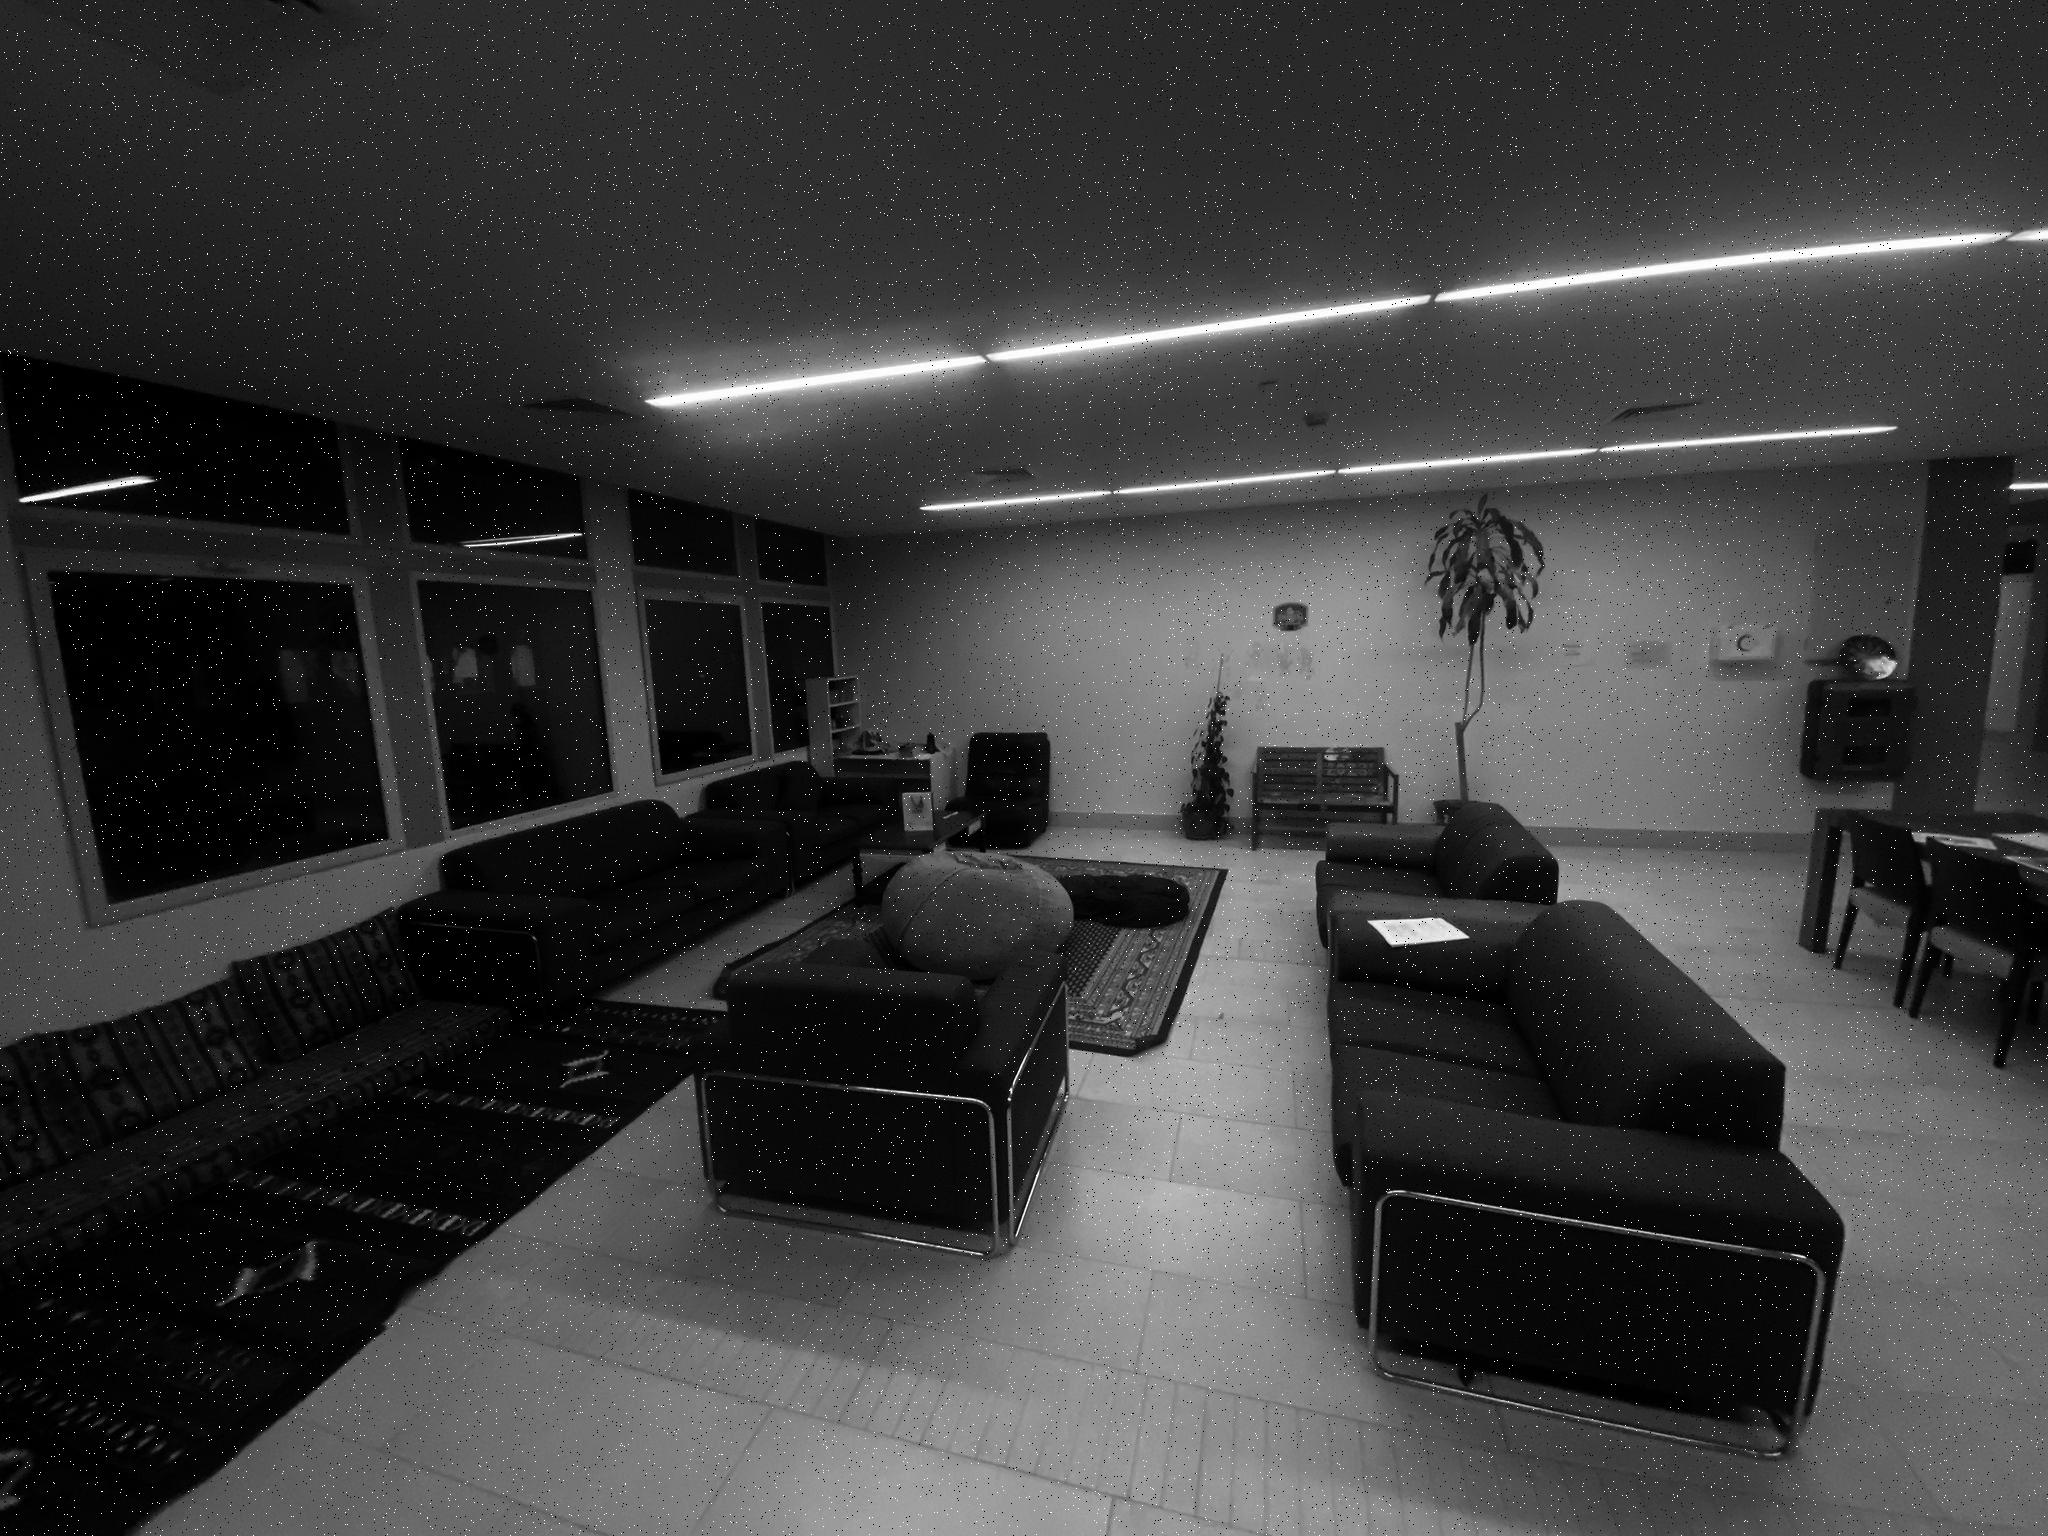Chair: (1909, 845, 2043, 1066), (1834, 813, 1927, 1005), (1253, 747, 1397, 845)
Couch: (1329, 902, 1843, 1438), (0, 908, 510, 1284), (697, 945, 1069, 1234), (398, 799, 785, 1007), (1317, 802, 1558, 945), (689, 762, 893, 883), (884, 850, 1072, 981), (947, 733, 1048, 845)
Table: (1800, 807, 1866, 952), (1867, 812, 2046, 836)
Wall: (834, 489, 1476, 833), (1467, 465, 1922, 854)
